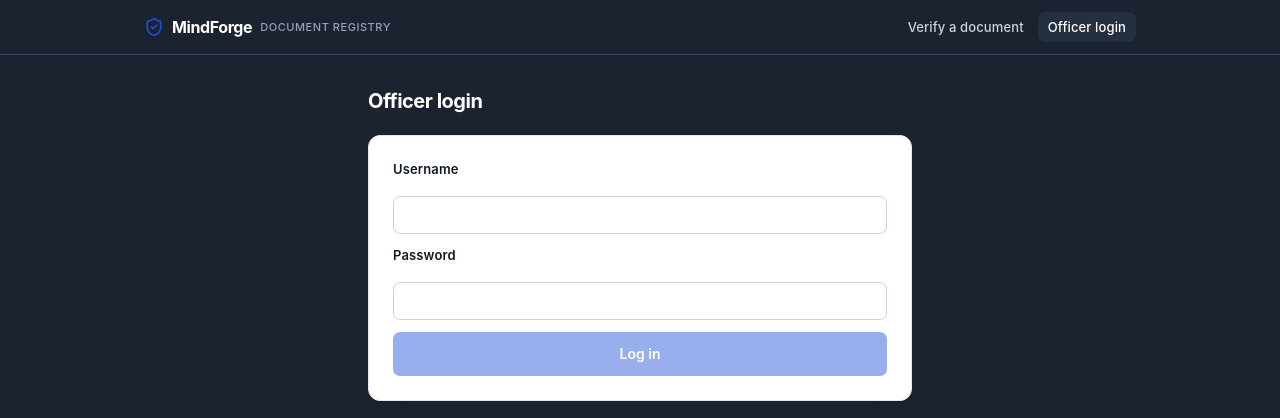
routing and access › returns to the login page when the server ends the session
Type "officer" into the field labelled "Username" at [640, 215], box [393,196,887,234]
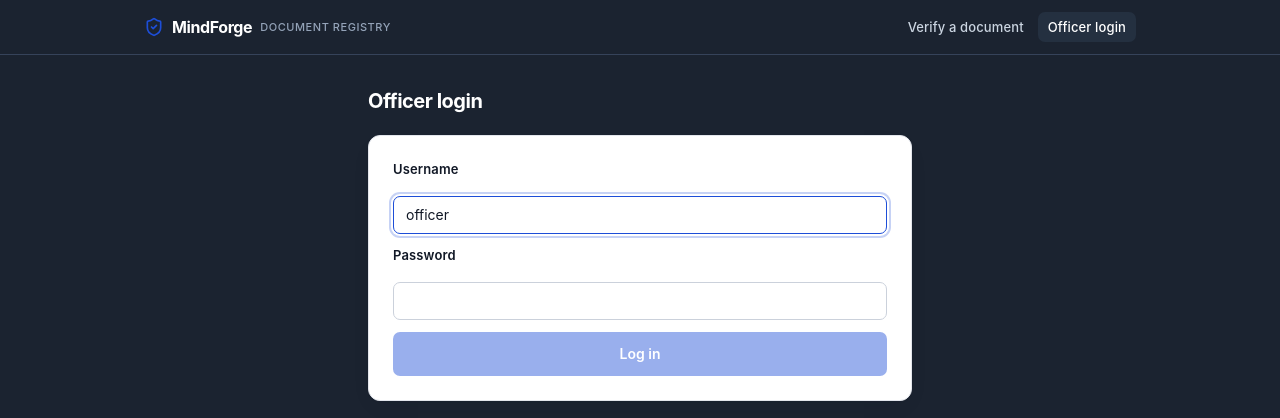
Type "correct horse" into the password field labelled "Password" at [640, 301], box [393,282,887,320]
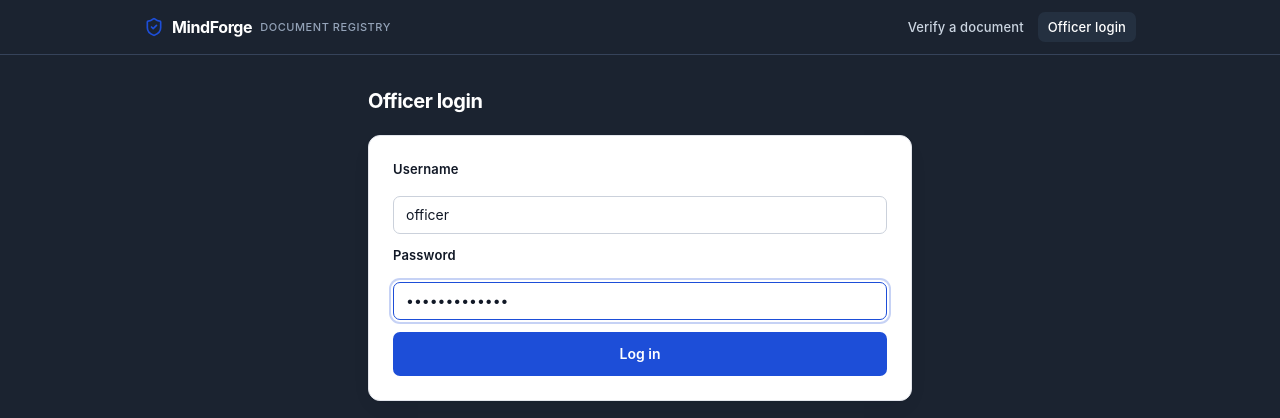
Click the button "Log in" at [640, 354], box [393,332,887,376]
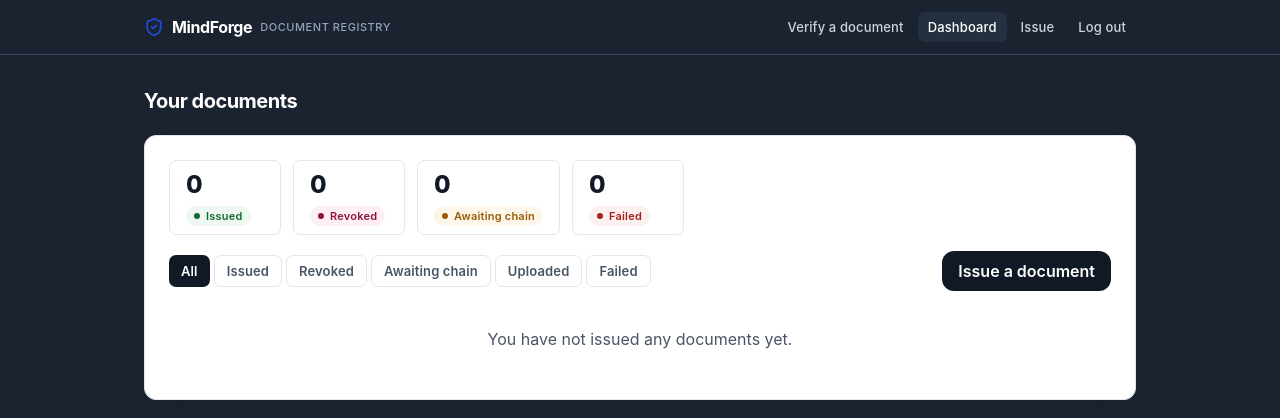
Now the heading "Your documents" is shown, box [144,89,297,113]
Click the button "Failed" at [619, 271], box [586,255,651,287]
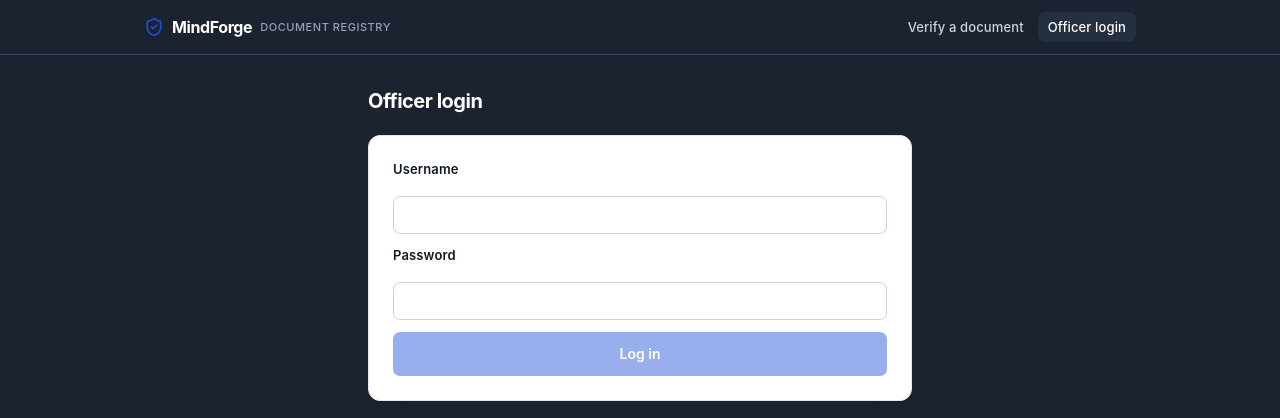
Now the heading "Officer login" is shown, box [368,89,482,113]
